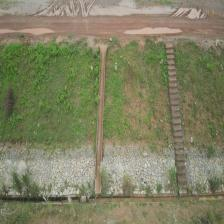rock toe: (0, 146, 94, 197), (103, 146, 175, 195), (186, 149, 224, 194)
slope drain: (95, 45, 107, 194)
